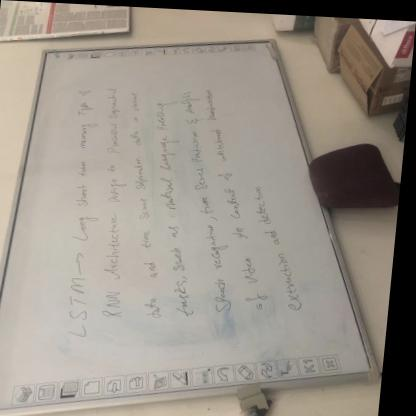Handwritten text: (193, 78, 283, 318), (167, 84, 244, 316), (142, 86, 206, 323), (111, 87, 173, 328), (230, 166, 322, 321), (94, 82, 134, 323), (63, 82, 100, 339)
Whiteboard: (0, 19, 373, 409)
